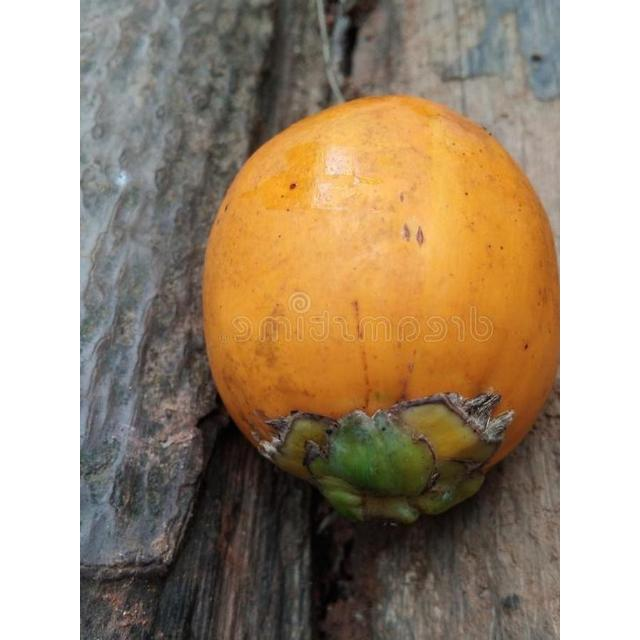good: (202, 95, 559, 528)
